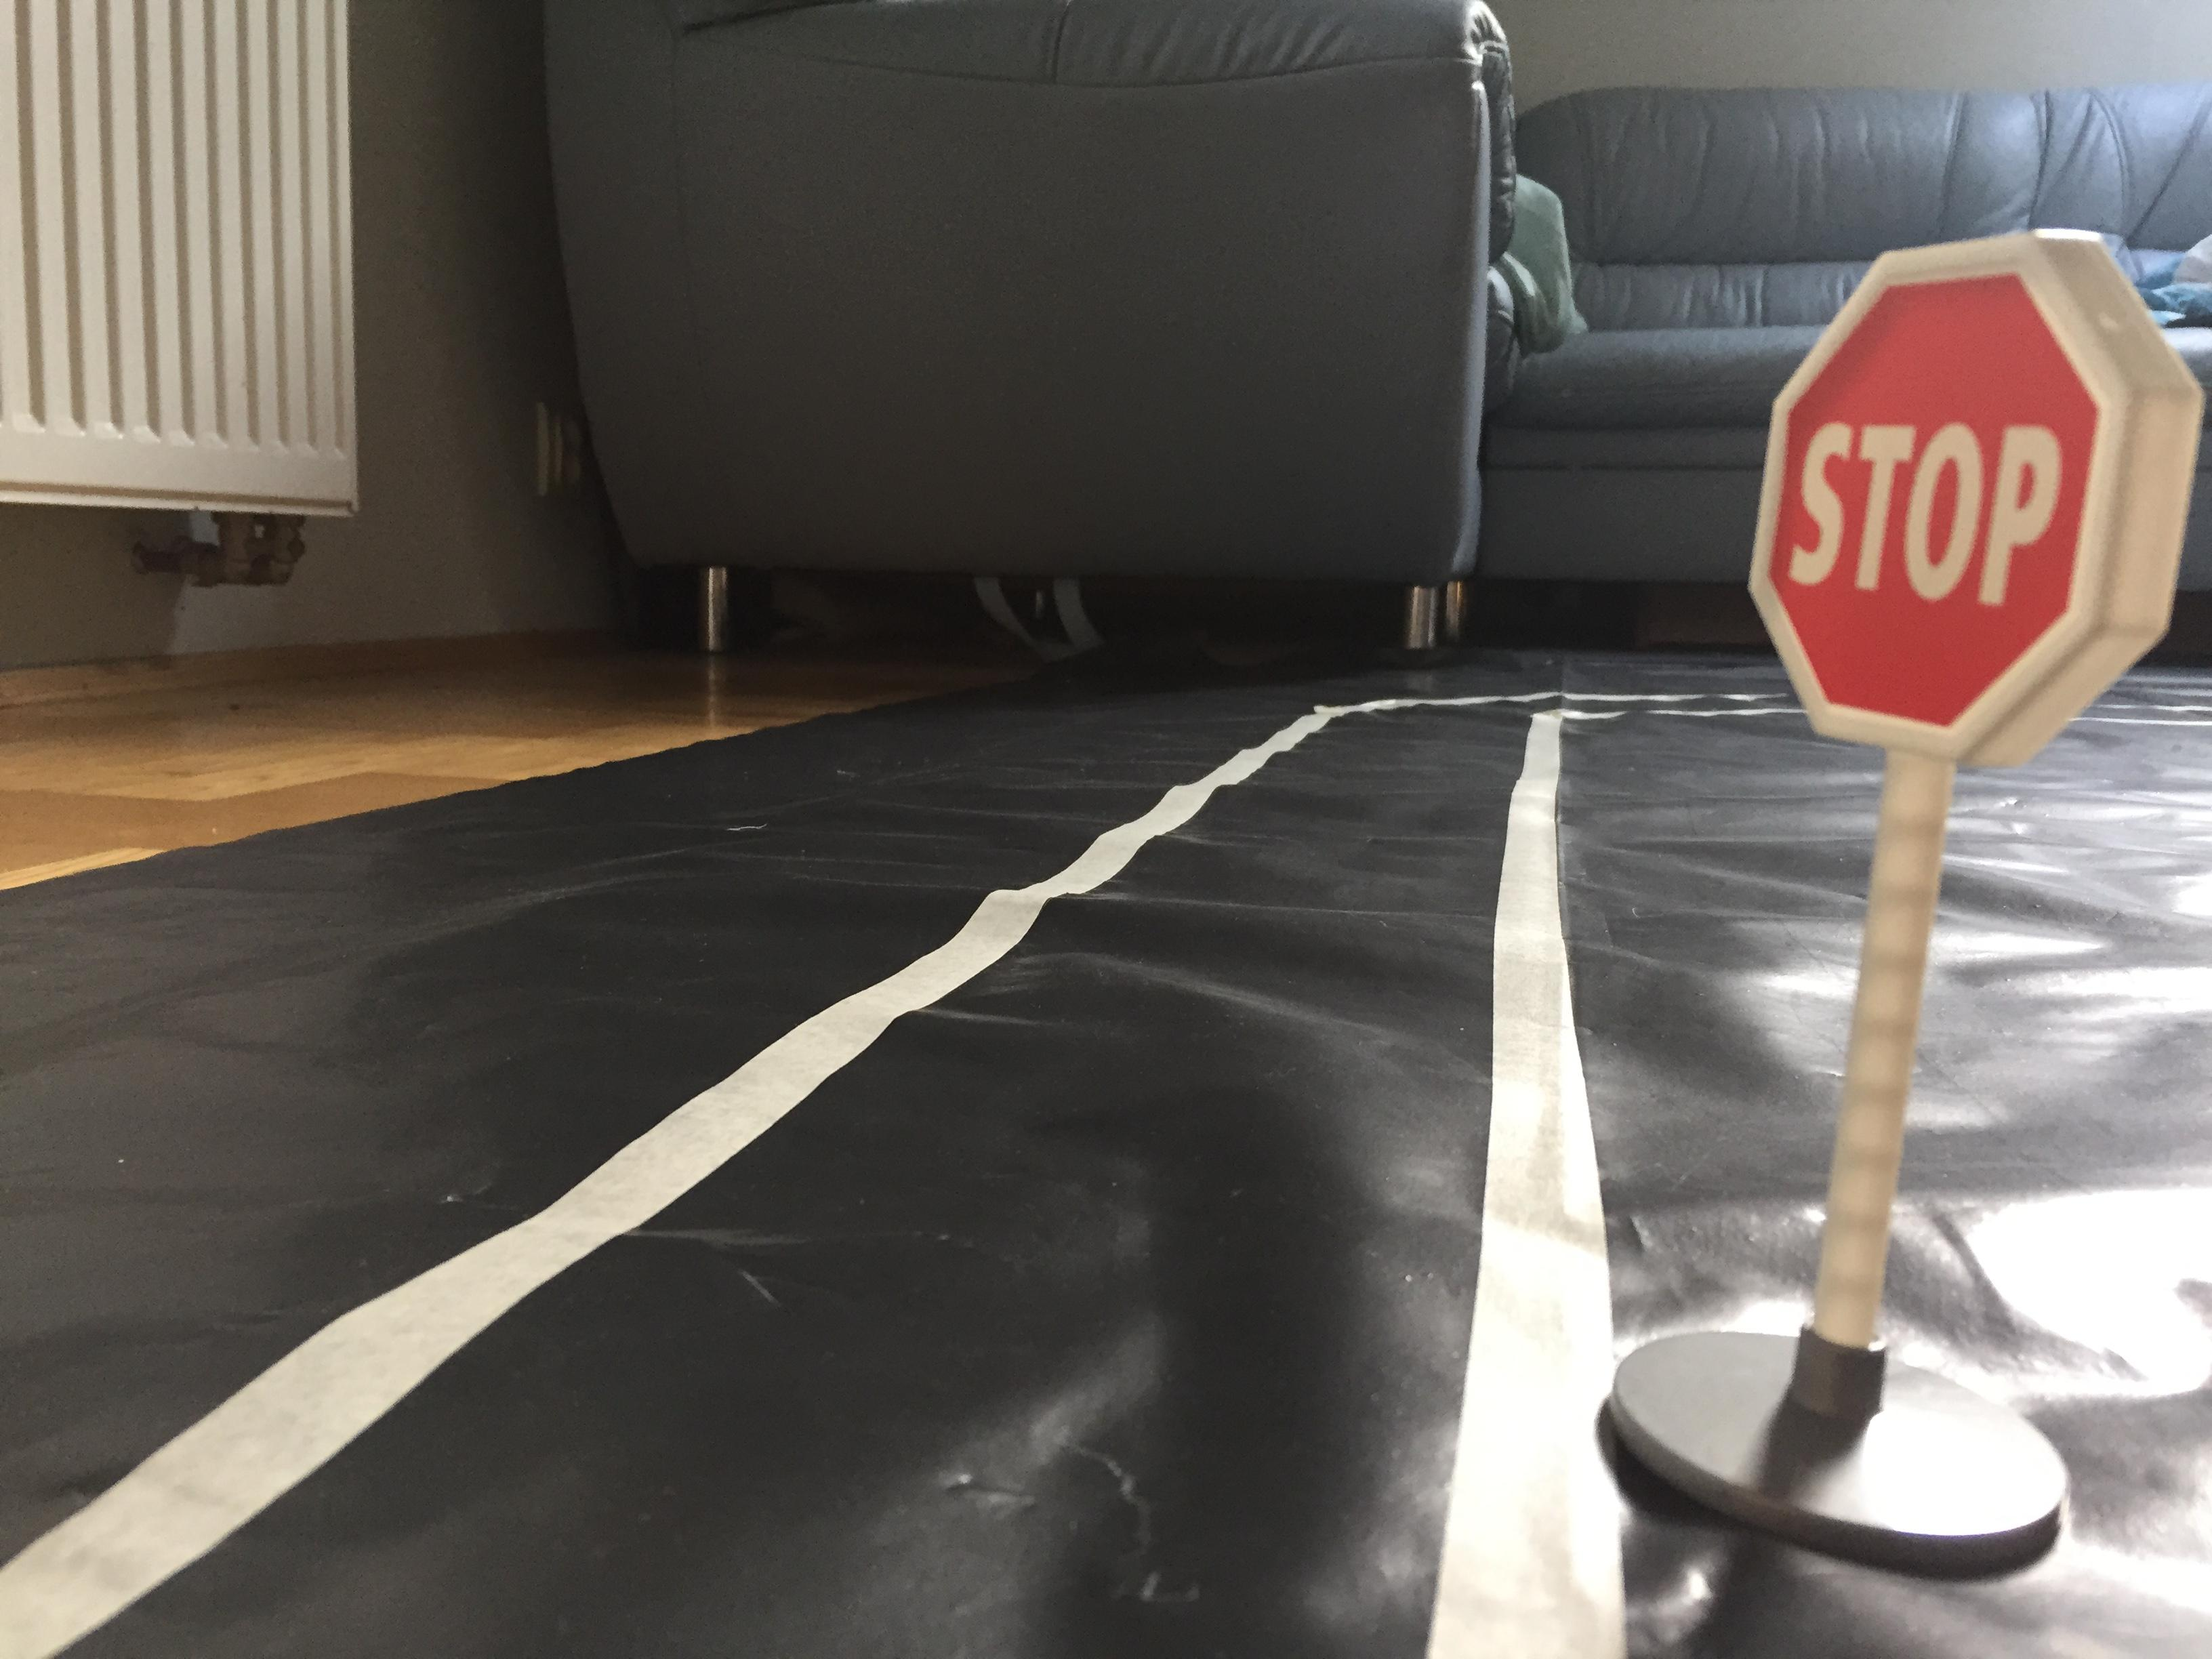stop: (1735, 213, 2212, 779)
